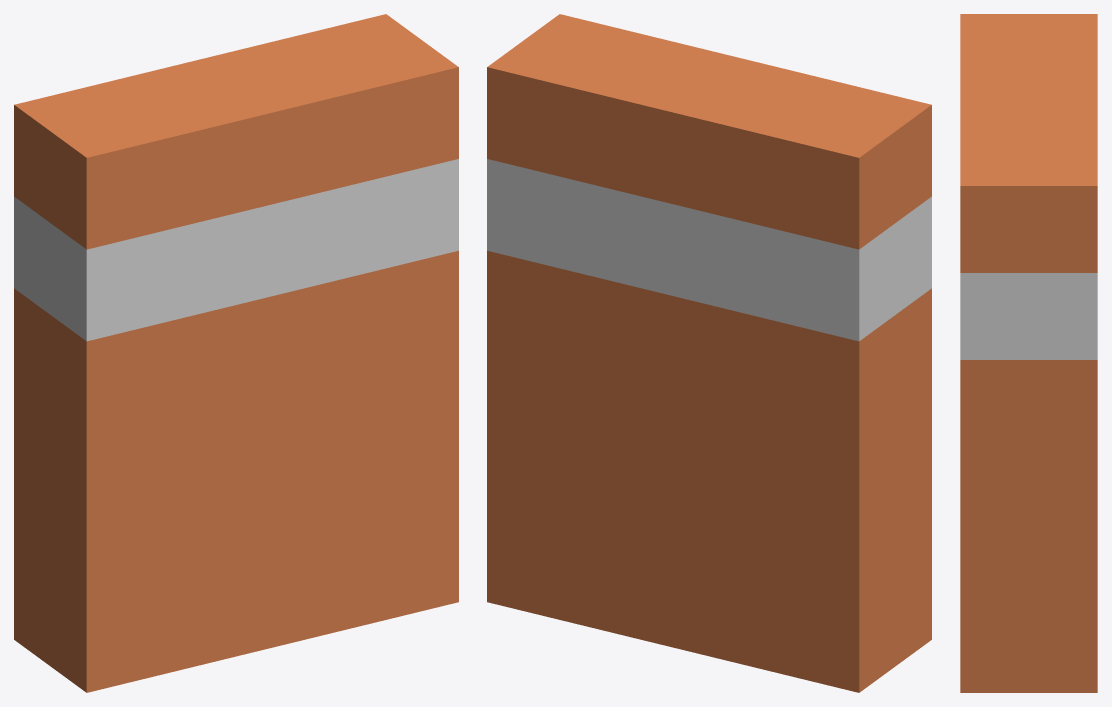
File: Cereals.fbx
The picture shows the model from 3 angles, left to right: view 1: azimuth 30°, elevation 25°; view 2: azimuth 150°, elevation 25°; view 3: azimuth 270°, elevation 25°; orthographic projection. The views are drawn at different scales.
Parts seen in each view (by area): view 1: Cube.001; view 2: Cube.001; view 3: Cube.001.
Part boxes in pixels (<box>): Cube.001: <box>14,14,458,692</box>; Cube.001: <box>487,14,931,692</box>; Cube.001: <box>960,14,1097,692</box>.
Bounding box in the file's own units: 18.07 × 73.46 × 53.46.
